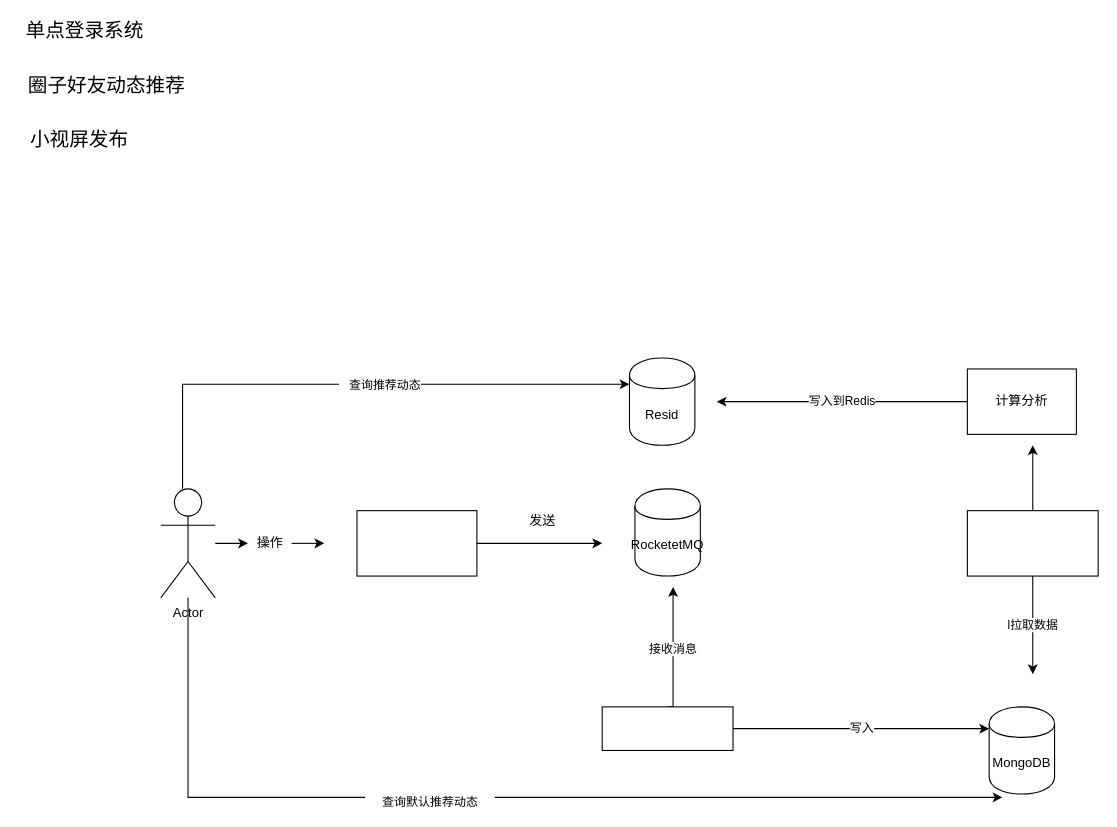
Some shapes in this 1117 by 827 pixel diagram are drawn without their labels. The shapes that lost their labels are listed below. From the top down, each one's centre as x and y in pixels, then its label:
At (416,543): "圈子动态".
At (1032,543): "Spark".
At (667,728): "推荐系统".
